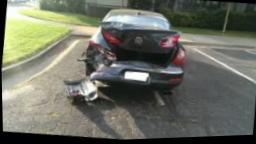Bumper: (79, 52, 115, 95)
Dickey: (105, 39, 173, 75)
